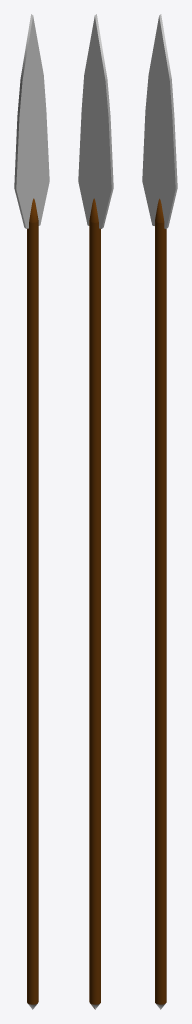
The model's file is Spear.fbx.
3 renders of one model, left to right at view 1: azimuth 30°, elevation 25°; view 2: azimuth 150°, elevation 25°; view 3: azimuth 330°, elevation 25°, orthographic.
Parts seen in each view (by area): view 1: pCube2; view 2: pCube2; view 3: pCube2.
Boxes of the visible parts, x1,y1,x2,y2 form: pCube2: (14, 14, 49, 1009); pCube2: (78, 14, 113, 1009); pCube2: (142, 14, 177, 1009).
Bounding box in the file's own units: 0.3699 × 10.52 × 0.1112.
